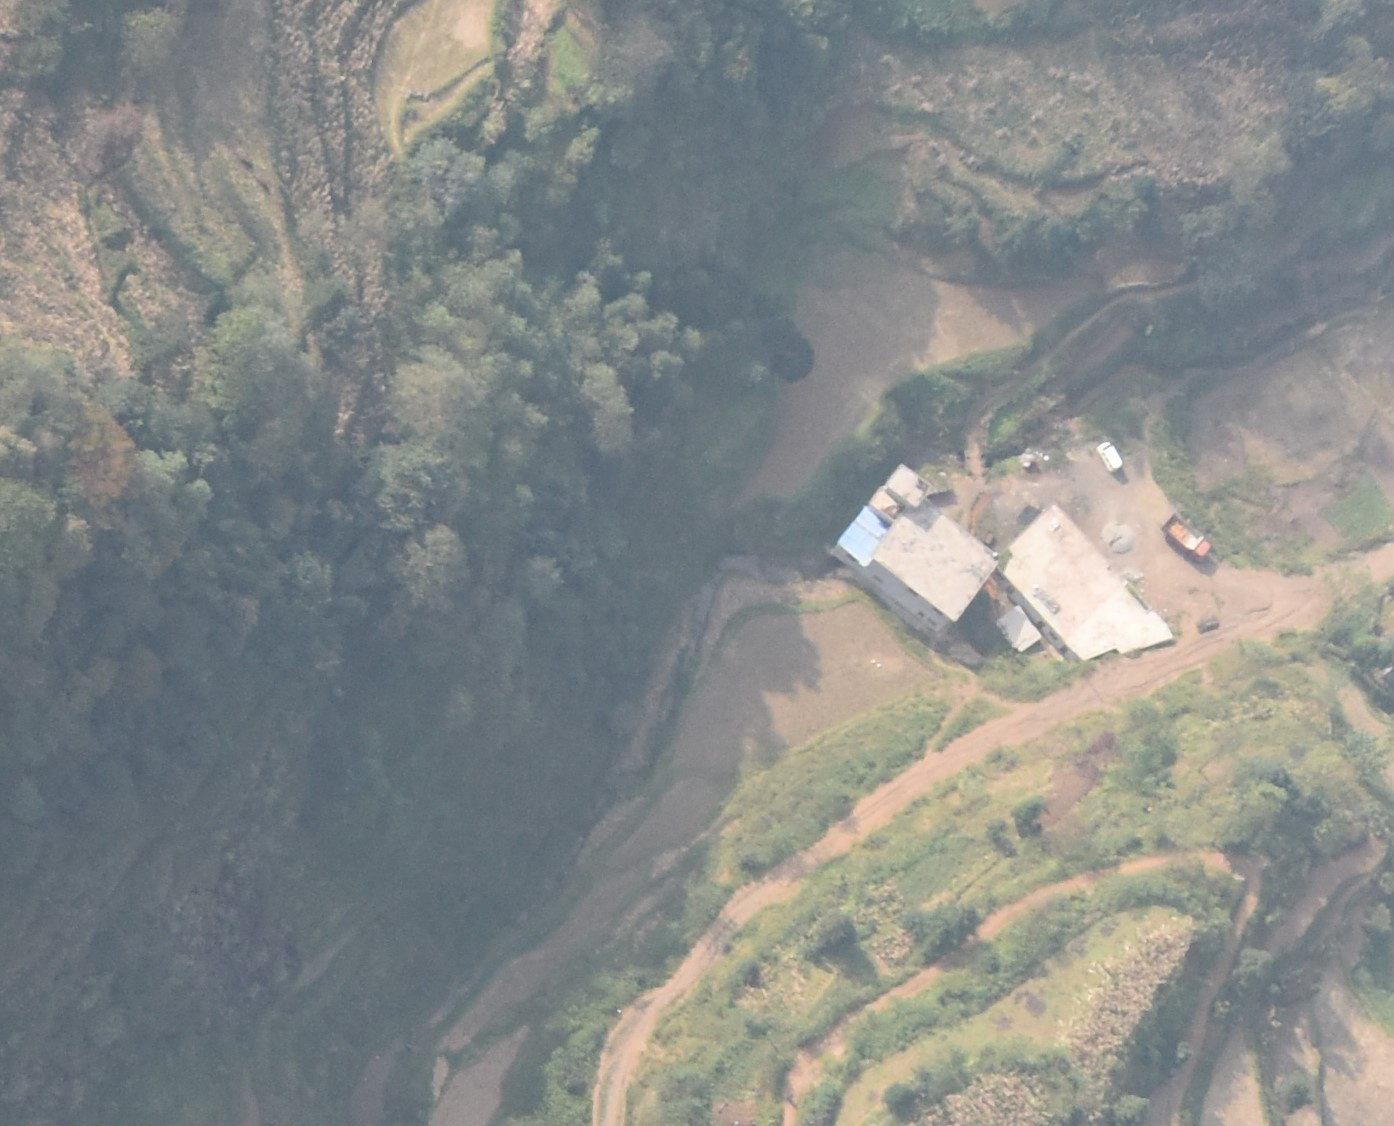building: (829, 462, 996, 646), (995, 502, 1174, 662), (996, 606, 1042, 651)
prefabricated-house: (831, 506, 884, 568)
vehicle: (1162, 512, 1210, 560), (1096, 441, 1124, 473)
